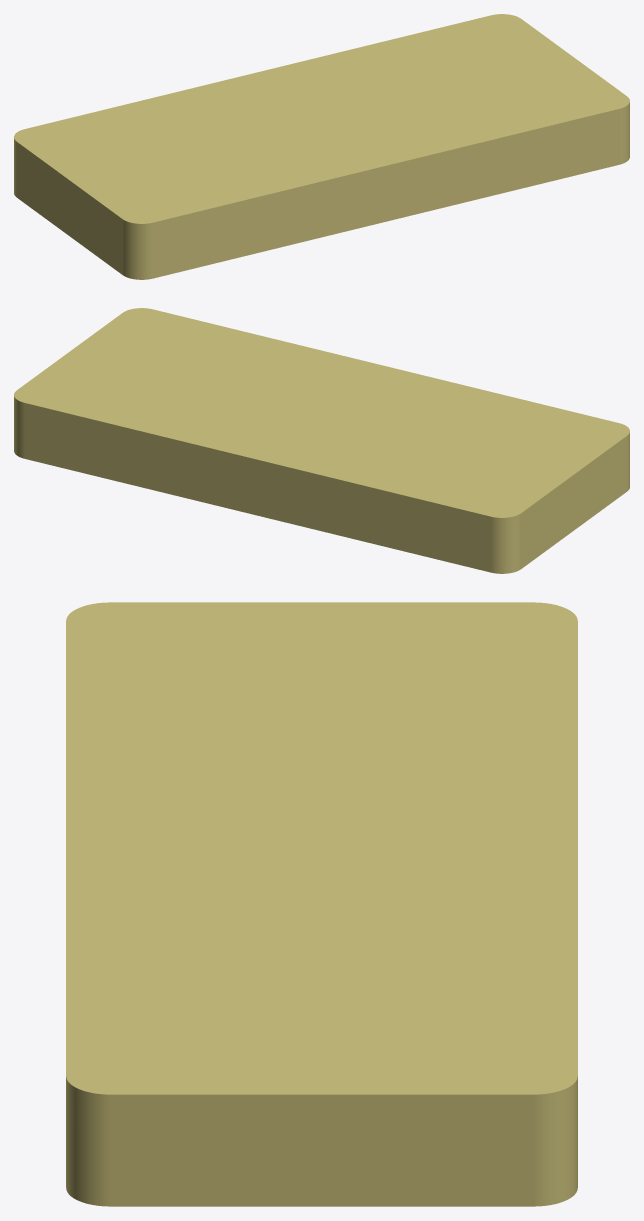
The model's file is step_01.glb.
3 renders of one model, top to bottom at view 1: azimuth 30°, elevation 25°; view 2: azimuth 150°, elevation 25°; view 3: azimuth 270°, elevation 25°, orthographic. The views are drawn at different scales.
Visible parts, largest first — view 1: part__base; view 2: part__base; view 3: part__base.
Part boxes in pixels (box(x1,y1,x2,y2)): part__base: box(14, 14, 629, 279); part__base: box(14, 308, 629, 573); part__base: box(66, 602, 577, 1206).
Size of the model in its own units: 132 by 14 by 58.
